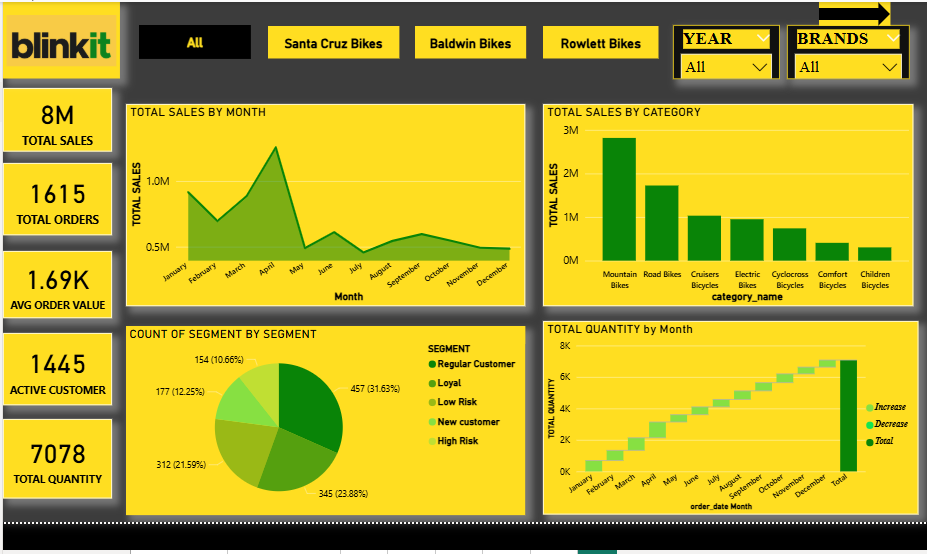

The dashboard page shown, as its layout file describes it:
{"tool":"powerbi","page":{"name":"DASHBOARD","canvas":[1280,720],"ordinal":1},"visuals":[{"type":"card","fields":{"Values":["retail brands.Active Customer"]},"box":[0,458.5,151.1,99.9],"z":0},{"type":"card","fields":{"Values":["MEASURES (2).TOTAL ORDERS"]},"box":[0,223.4,151.1,99.9],"z":1000},{"type":"card","fields":{"Values":["MEASURES (2).TOTAL SALES"]},"box":[0,119.6,151.1,88],"z":2000},{"type":"card","fields":{"Values":["MEASURES (2).AVG ORDER VALUE"]},"box":[0,345.5,151.1,93.3],"z":3000},{"type":"slicer","fields":{"Values":["retail orders.YEAR"]},"box":[928.1,31.9,148.2,74.8],"z":4000},{"type":"slicer","title":"BRAND NAME ","fields":{"Values":["retail brands.brand_name"]},"box":[1086.1,31.9,170.4,74.8],"z":5000},{"type":"image","box":[0,0,161.6,106.4],"z":6000},{"type":"card","fields":{"Values":["MEASURES (2).TOTAL QUANTITY"]},"box":[0,578.1,151.1,110.4],"z":7000},{"type":"lineChart","title":" TOTAL SALES BY MONTH","fields":{"Category":["retail orders.order_date.Variation.Date Hierarchy.Month"],"Y":["MEASURES (2).TOTAL SALES"]},"box":[170,141.7,553.3,280],"z":8000},{"type":"columnChart","title":"  TOTAL SALES BY CATEGORY","fields":{"Category":["retail categories.category_name"],"Y":["MEASURES (2).TOTAL SALES"]},"box":[748.3,141.7,513.3,280],"z":9000},{"type":"pieChart","title":"  COUNT OF SEGMENT BY SEGMENT ","fields":{"Category":["retail customer_segment.segment"],"Y":["CountNonNull(retail customer_segment.segment)"]},"box":[170,448.3,553.3,261.7],"z":10000},{"type":"waterfallChart","title":" TOTAL QUANTITY by Month","fields":{"Category":["retail orders.order_date.Variation.Date Hierarchy.Month"],"Y":["MEASURES (2).TOTAL QUANTITY"]},"box":[748.3,441.7,520,268.3],"z":11000},{"type":"actionButton","title":"Santa","box":[366.7,33.3,181.7,45],"z":13000},{"type":"actionButton","title":"Bladwin","box":[570.2,32.8,153.7,44.7],"z":14000},{"type":"actionButton","title":"Rowlett","box":[747.6,32.8,160.3,44.7],"z":15000},{"type":"actionButton","title":"All 1","box":[188.3,31.7,155,46.7],"z":16000},{"type":"shape","box":[1130.7,0,98.7,33.3],"z":32000}]}

Visuals, with their boxes on the page's 1280x720 design canvas (x1, y1, x2, y2). These are canvas units, not pixel positions in the 927x554 screenshot, which may show the page scaled, cropped or inside an application window:
card - retail brands.Active Customer: box=[0, 458, 151, 558]
card - MEASURES (2).TOTAL ORDERS: box=[0, 223, 151, 323]
card - MEASURES (2).TOTAL SALES: box=[0, 120, 151, 208]
card - MEASURES (2).AVG ORDER VALUE: box=[0, 346, 151, 439]
slicer - retail orders.YEAR: box=[928, 32, 1076, 107]
"BRAND NAME " slicer: box=[1086, 32, 1256, 107]
image: box=[0, 0, 162, 106]
card - MEASURES (2).TOTAL QUANTITY: box=[0, 578, 151, 688]
" TOTAL SALES BY MONTH" lineChart: box=[170, 142, 723, 422]
"  TOTAL SALES BY CATEGORY" columnChart: box=[748, 142, 1262, 422]
"  COUNT OF SEGMENT BY SEGMENT " pieChart: box=[170, 448, 723, 710]
" TOTAL QUANTITY by Month" waterfallChart: box=[748, 442, 1268, 710]
"Santa" actionButton: box=[367, 33, 548, 78]
"Bladwin" actionButton: box=[570, 33, 724, 78]
"Rowlett" actionButton: box=[748, 33, 908, 78]
"All 1" actionButton: box=[188, 32, 343, 78]
shape: box=[1131, 0, 1229, 33]
